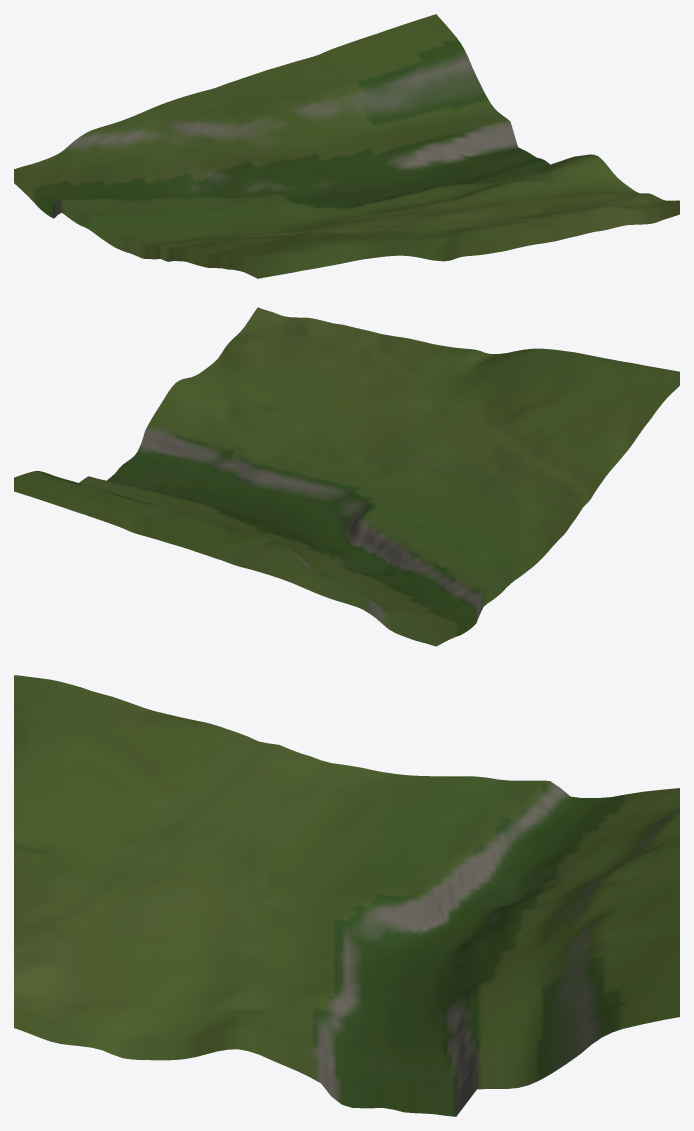
The model's file is terrain_8_-24.glb.
3 renders of one model, top to bottom at view 1: azimuth 30°, elevation 25°; view 2: azimuth 150°, elevation 25°; view 3: azimuth 270°, elevation 25°, orthographic. The views are drawn at different scales.
Parts seen in each view (by area): view 1: terrain_8_-24; view 2: terrain_8_-24; view 3: terrain_8_-24.
Part boxes in pixels (bbox=[...]): terrain_8_-24: bbox=[14, 14, 679, 278]; terrain_8_-24: bbox=[14, 307, 679, 646]; terrain_8_-24: bbox=[14, 675, 679, 1116].
Size of the model in its own units: 256 by 67.99 by 256.
